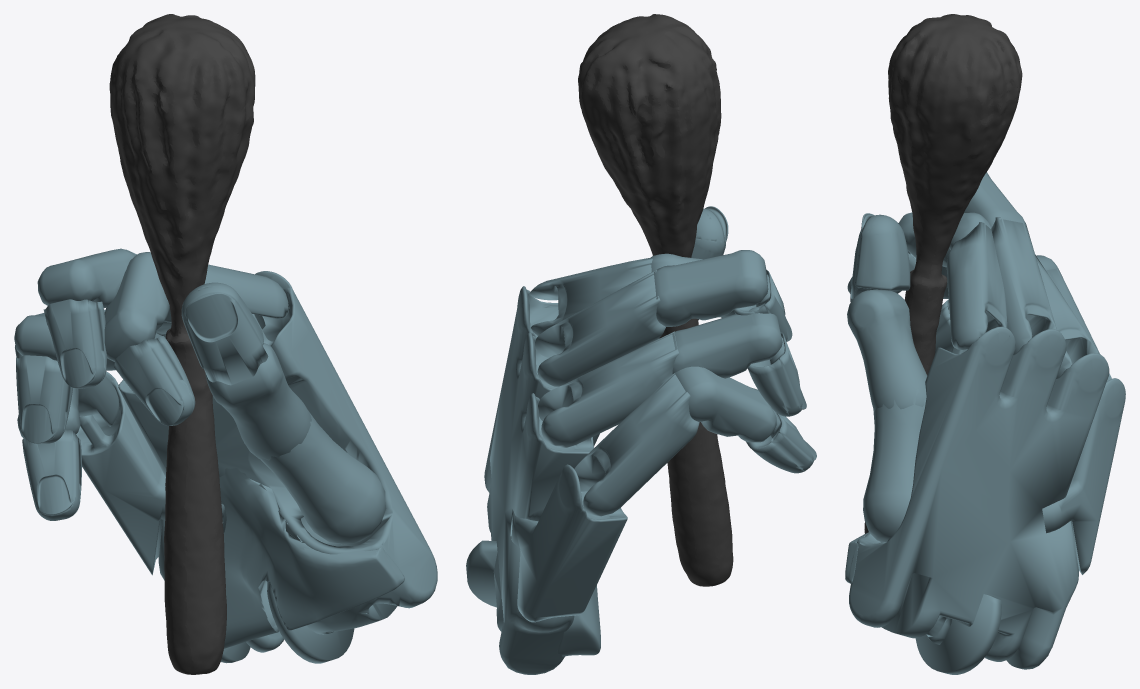
The picture shows the model from 3 angles, left to right: view 1: azimuth 30°, elevation 25°; view 2: azimuth 150°, elevation 25°; view 3: azimuth 270°, elevation 25°; orthographic projection. The views are drawn at different scales.
Visible parts, largest first — view 1: world; view 2: world; view 3: world.
Boxes of the visible parts, x1,y1,x2,y2 form: world: (14, 14, 437, 674); world: (466, 14, 816, 674); world: (845, 14, 1125, 674).
Bounding box in the file's own units: 0.1323 × 0.231 × 0.0967.
1 material, 1 textured.
